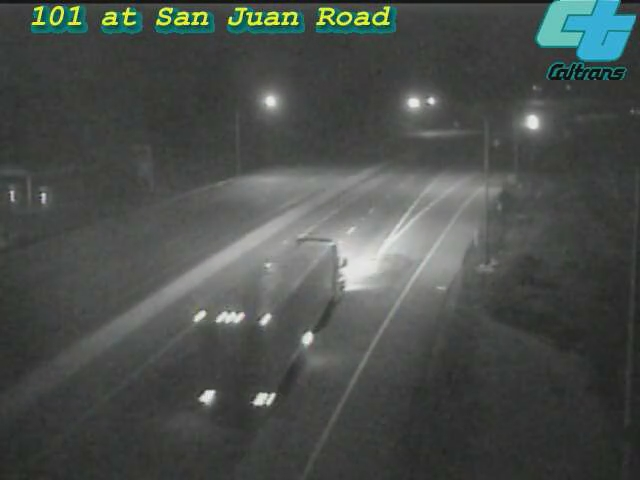vehicle: (252, 256, 332, 336), (510, 97, 560, 147)
